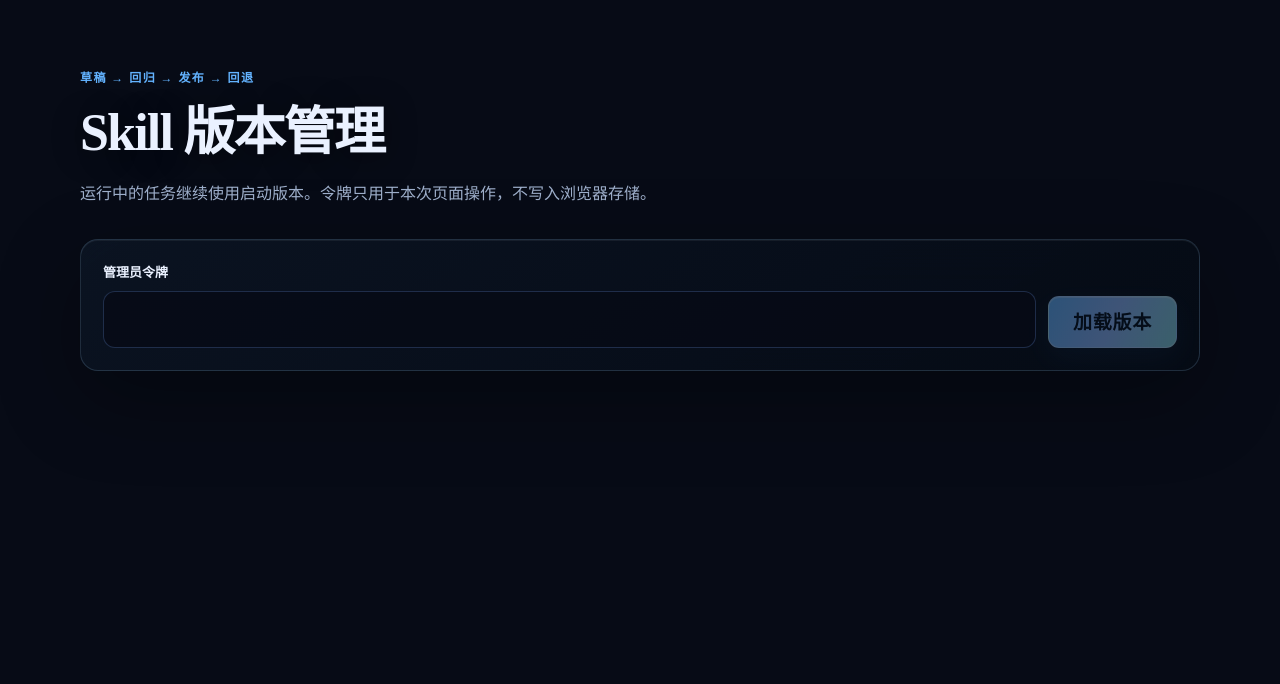
Test: AdminSkillPage › uses a transient admin token for draft, regression, publish and rollback
The width and height of the screenshot is (1280, 684).
Type "admin-secret" into the password field labelled "管理员令牌" at (570, 320), box [103,291,1036,348]
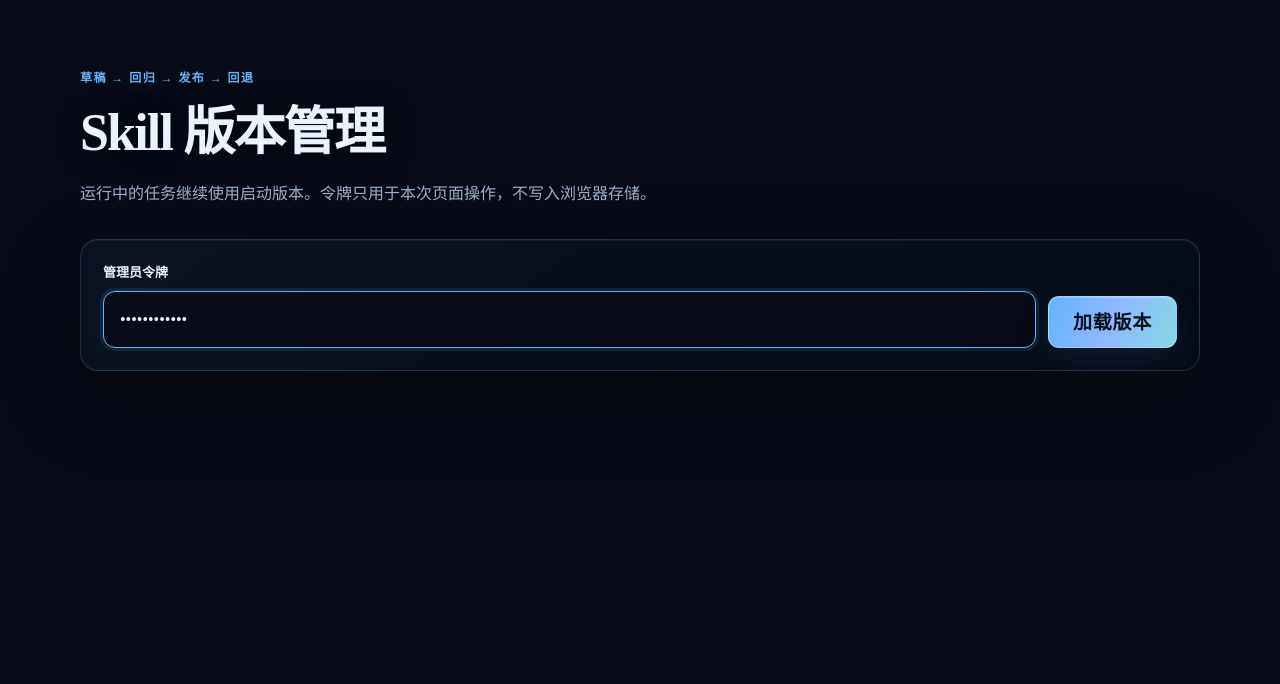
Click the button "加载版本" at (1113, 322), box [1048,296,1177,348]
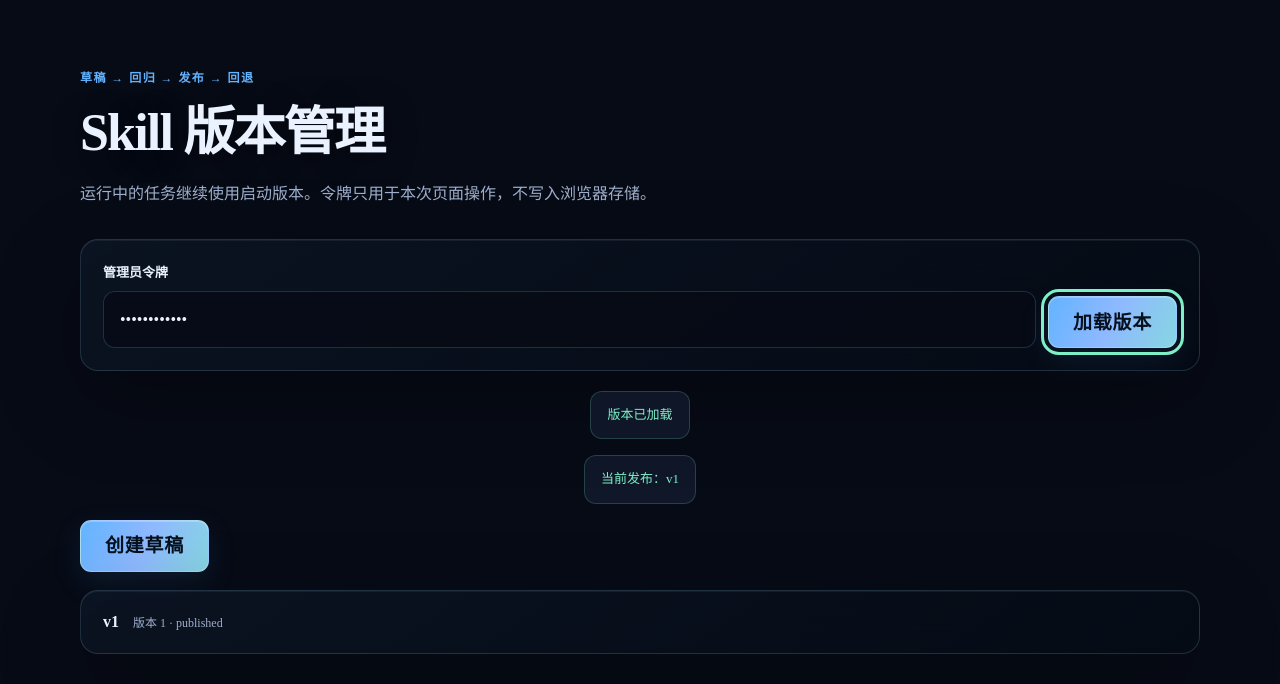
Now the text "当前发布：v1" is shown, box [584,456,696,504]
Click the button "创建草稿" at (144, 546), box [80,520,209,572]
(page scrolled)
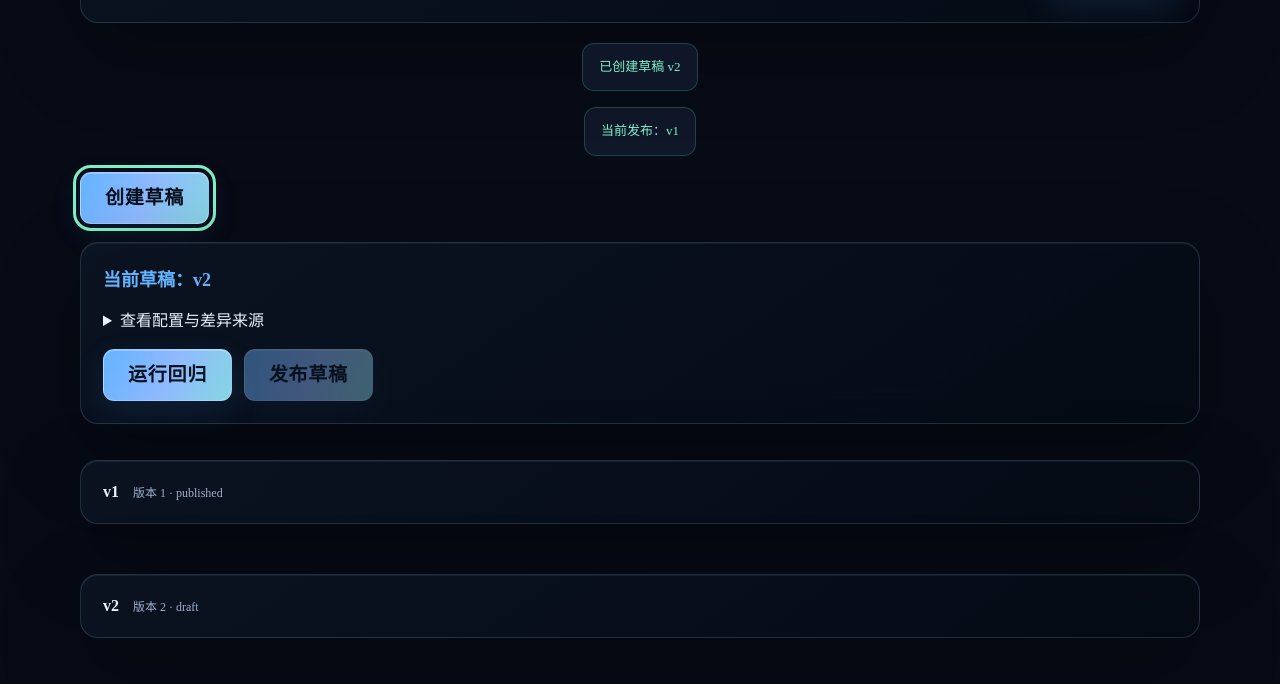
Click the button "运行回归" at (167, 375), box [103,349,232,401]
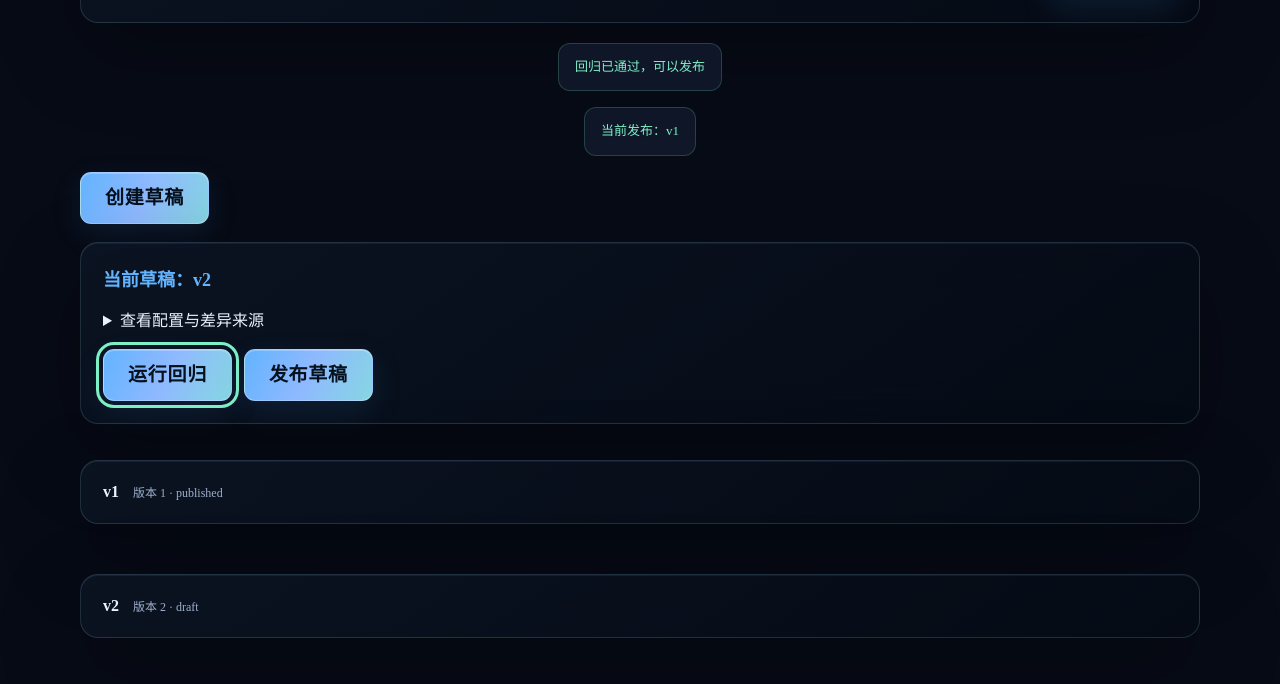
Click the button "发布草稿" at (308, 375), box [244,349,373,401]
(page scrolled)
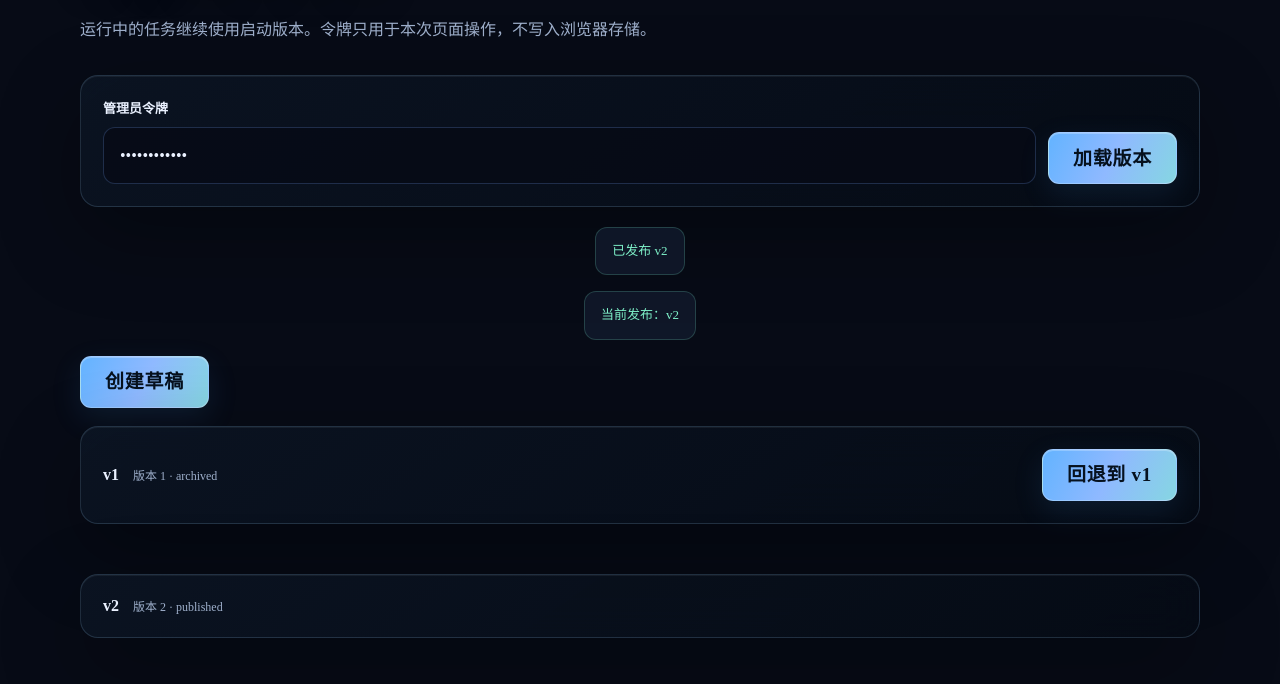
Now the text "当前发布：v2" is shown, box [584,292,696,340]
Click the button "回退到 v1" at (1109, 475), box [1042,449,1177,501]
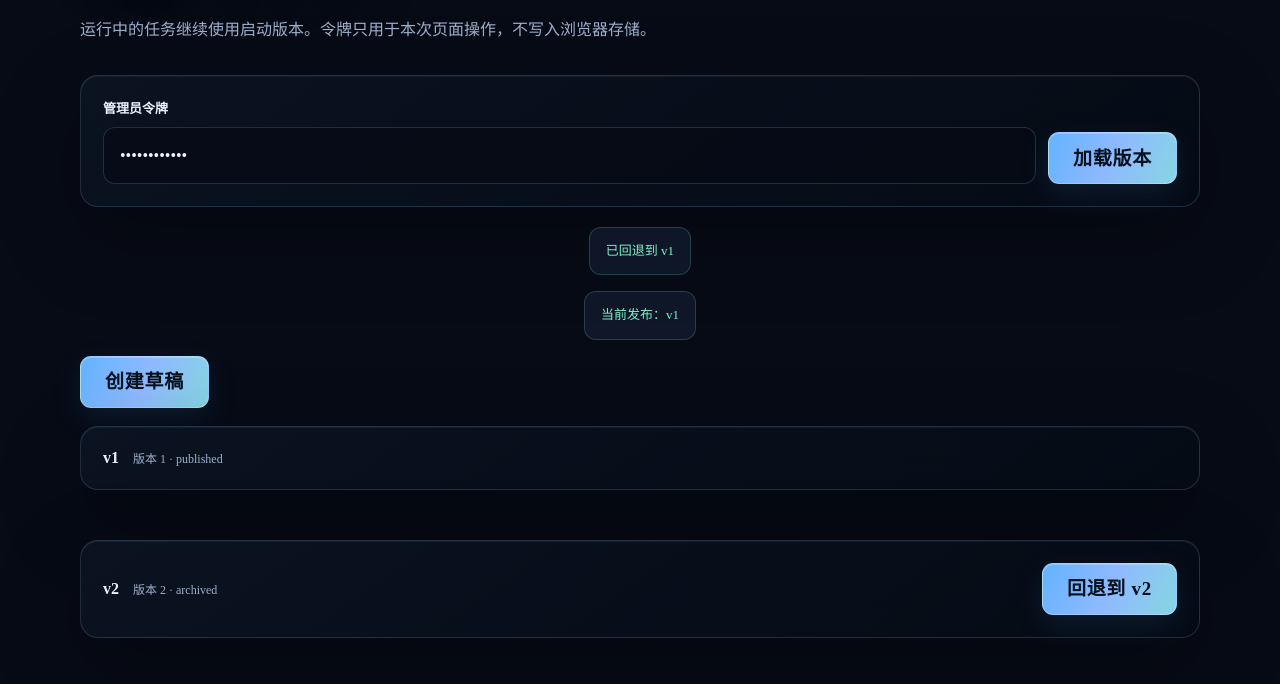
Now the text "当前发布：v1" is shown, box [584,292,696,340]
